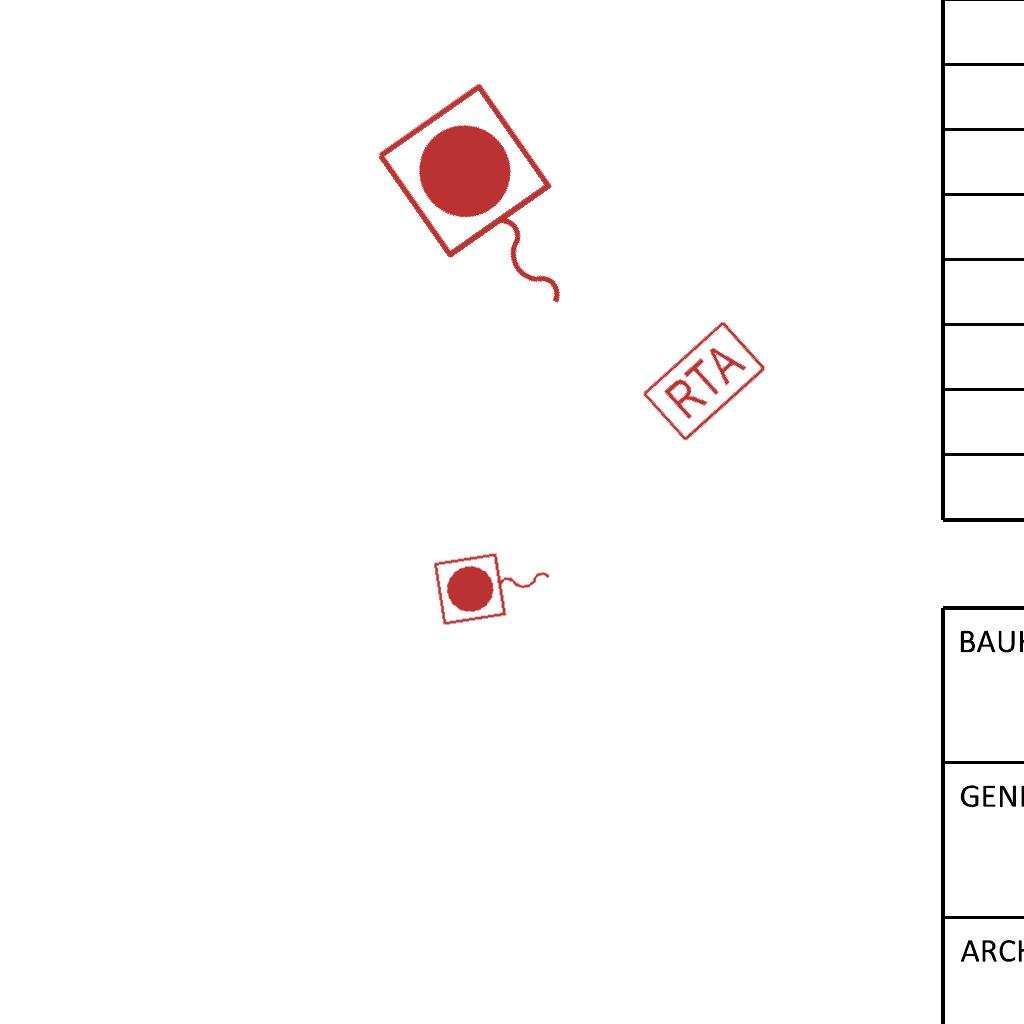Ruf-und_Abstelltaster: (638, 318, 769, 446)
Zugtaster: (363, 71, 621, 355), (429, 540, 561, 632)
